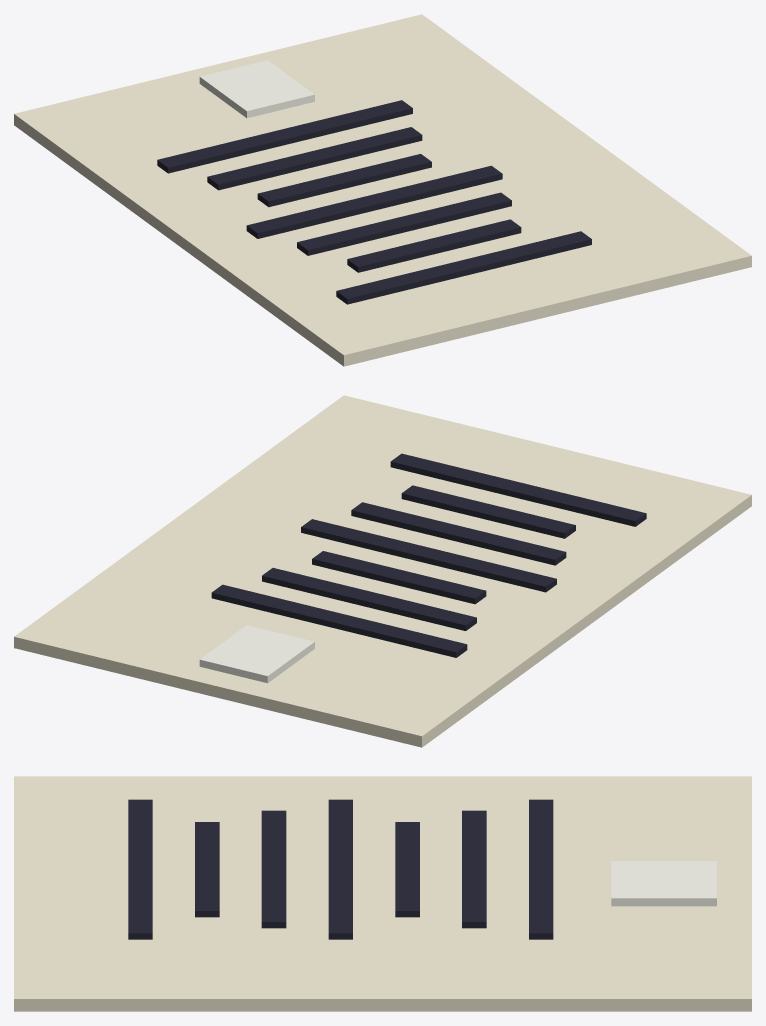
The model's file is client_list.glb.
The picture shows the model from 3 angles, top to bottom: view 1: azimuth 30°, elevation 25°; view 2: azimuth 150°, elevation 25°; view 3: azimuth 270°, elevation 25°; orthographic projection. The views are drawn at different scales.
Parts seen in each view (by area): view 1: paper_list_paper, ink_list_ink (×7), ink_tooth; view 2: paper_list_paper, ink_list_ink (×7), ink_tooth; view 3: paper_list_paper, ink_list_ink (×7), ink_tooth.
Part boxes in pixels (x1=…): paper_list_paper: x1=14, y1=14, x2=751, y2=366; ink_list_ink (×7): x1=157, y1=100, x2=591, y2=304; ink_tooth: x1=199, y1=60, x2=314, y2=118; paper_list_paper: x1=14, y1=395, x2=751, y2=747; ink_list_ink (×7): x1=211, y1=453, x2=646, y2=657; ink_tooth: x1=199, y1=625, x2=314, y2=683; paper_list_paper: x1=14, y1=776, x2=751, y2=1011; ink_list_ink (×7): x1=128, y1=799, x2=553, y2=939; ink_tooth: x1=611, y1=861, x2=716, y2=906.
Size of the model in its own units: 0.15 by 0.0065 by 0.21.
